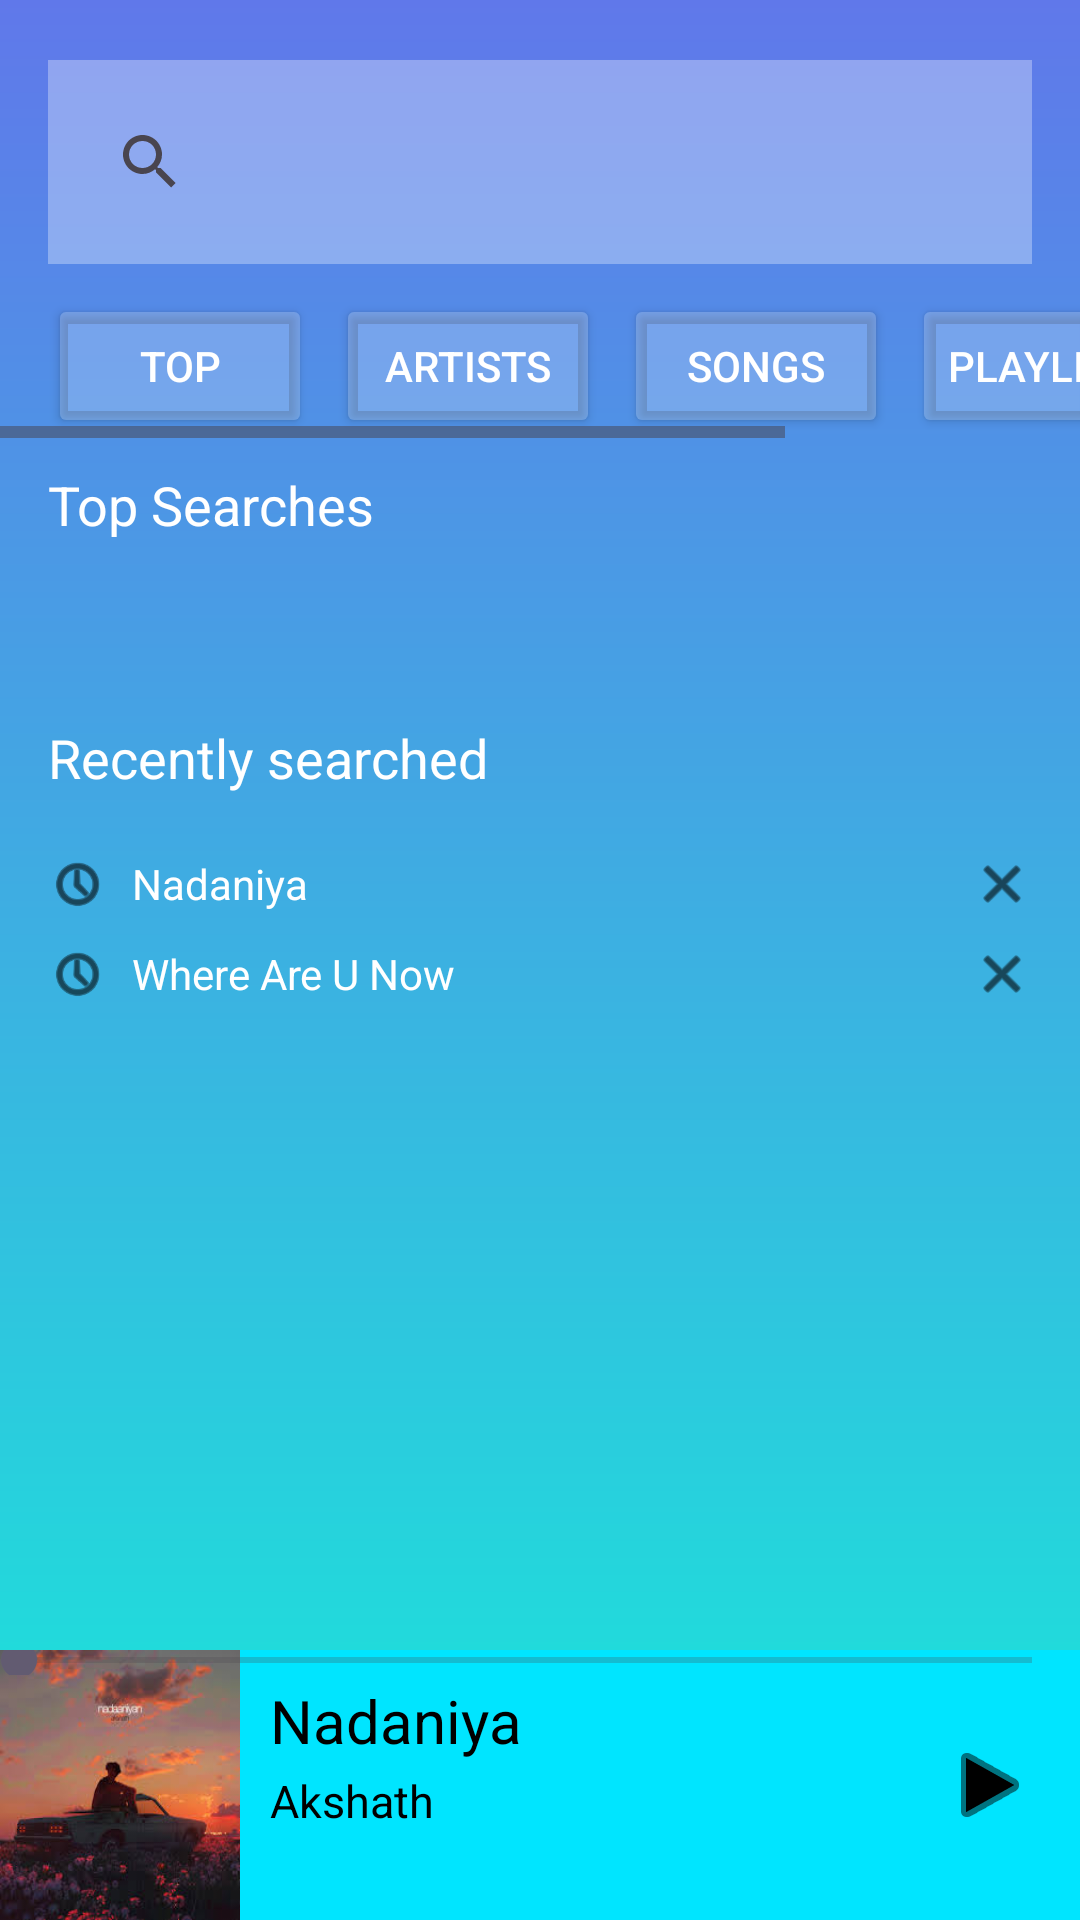

Icons on this 1080×1920 Android screen, each with the point to tap as (x,y):
close clear cancel: (1002,884), (1002,974)
play: (990,1785)
recent history: (77,884), (77,974)
